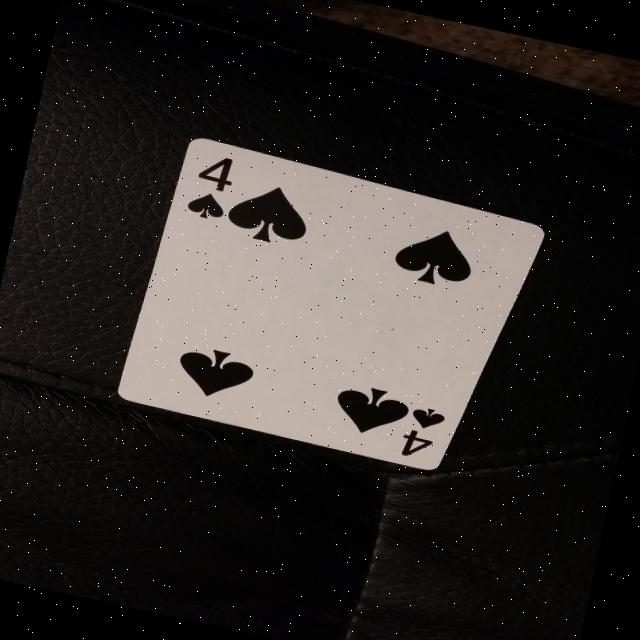4s: (176, 148, 252, 233), (389, 400, 454, 470)
